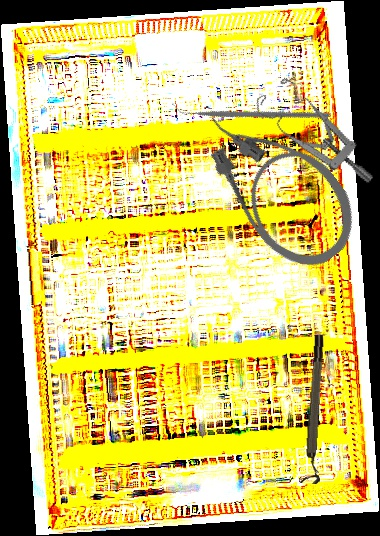Cannula: (186, 80, 373, 285)
Chopper: (171, 36, 331, 183)
Fixation Ring: (299, 334, 333, 485)
Speculum: (249, 61, 376, 214)
